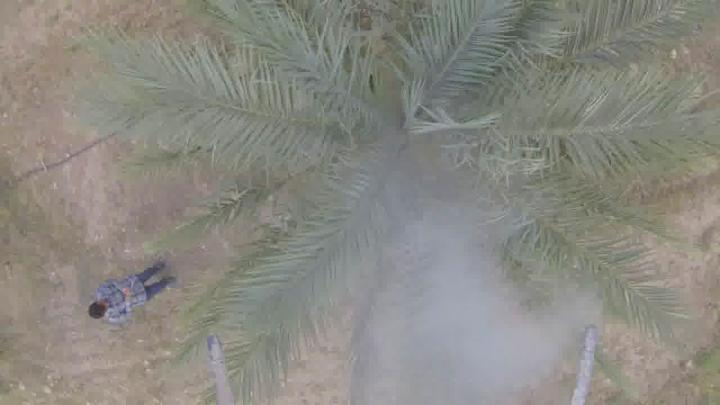Date-Palm-Crown: (198, 0, 608, 316)
